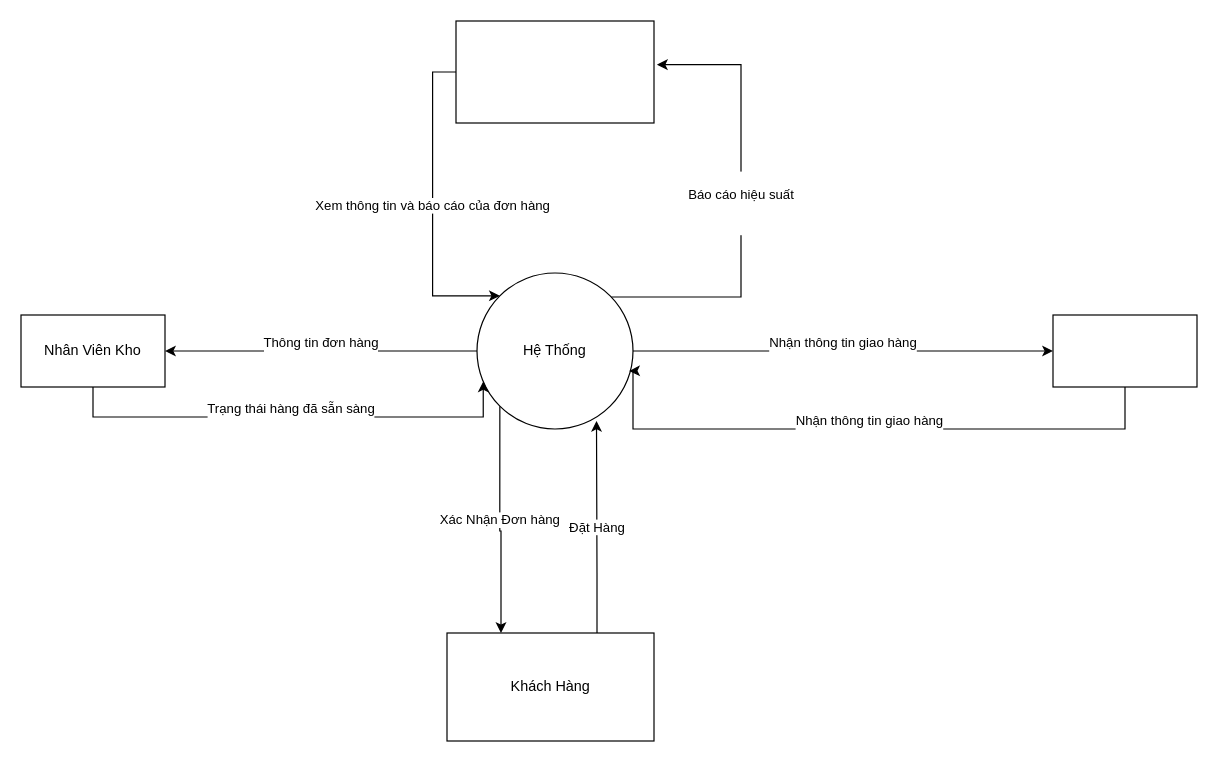
Image size: 1218x762. Some labels were removed from this diagram. The shapes that lost their labels are listed below. From the top down, each one's centre as x and y in pixels, then its label:
At [554,71]: "Quản Lý Logistics/Giao hàng".
At [1124,350]: "Đơn Vị vận chuyển".
